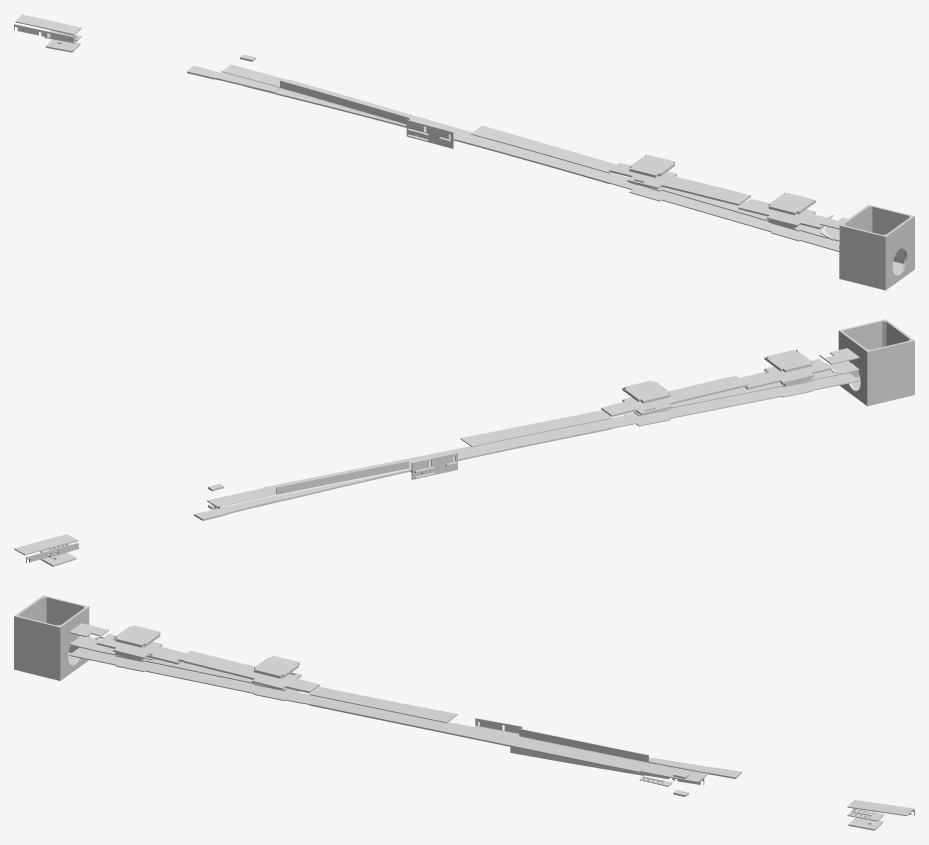
File: NoLod_1.glb
3 views of the same model, one above another, from view 1: azimuth 90°, elevation 25°; view 2: azimuth 150°, elevation 25°; view 3: azimuth 270°, elevation 25° (orthographic).
Parts seen in each view (by area): view 1: rtc; view 2: rtc; view 3: rtc.
Part boxes in pixels (bbox=[...]): rtc: bbox=[14, 14, 914, 290]; rtc: bbox=[14, 319, 914, 566]; rtc: bbox=[14, 595, 914, 830].
Size of the model in its own units: 263 by 30.34 by 453.
3 materials, 1 textured.
